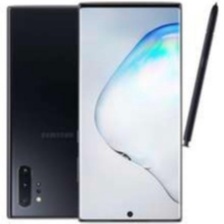phone: (75, 0, 186, 224), (5, 2, 113, 222)
